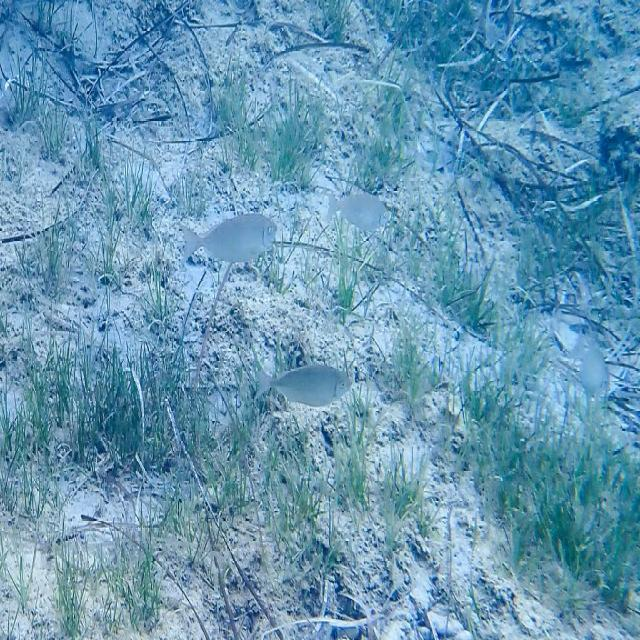Sokar Baligi: (170, 190, 291, 277), (250, 346, 358, 415), (319, 176, 393, 243)
